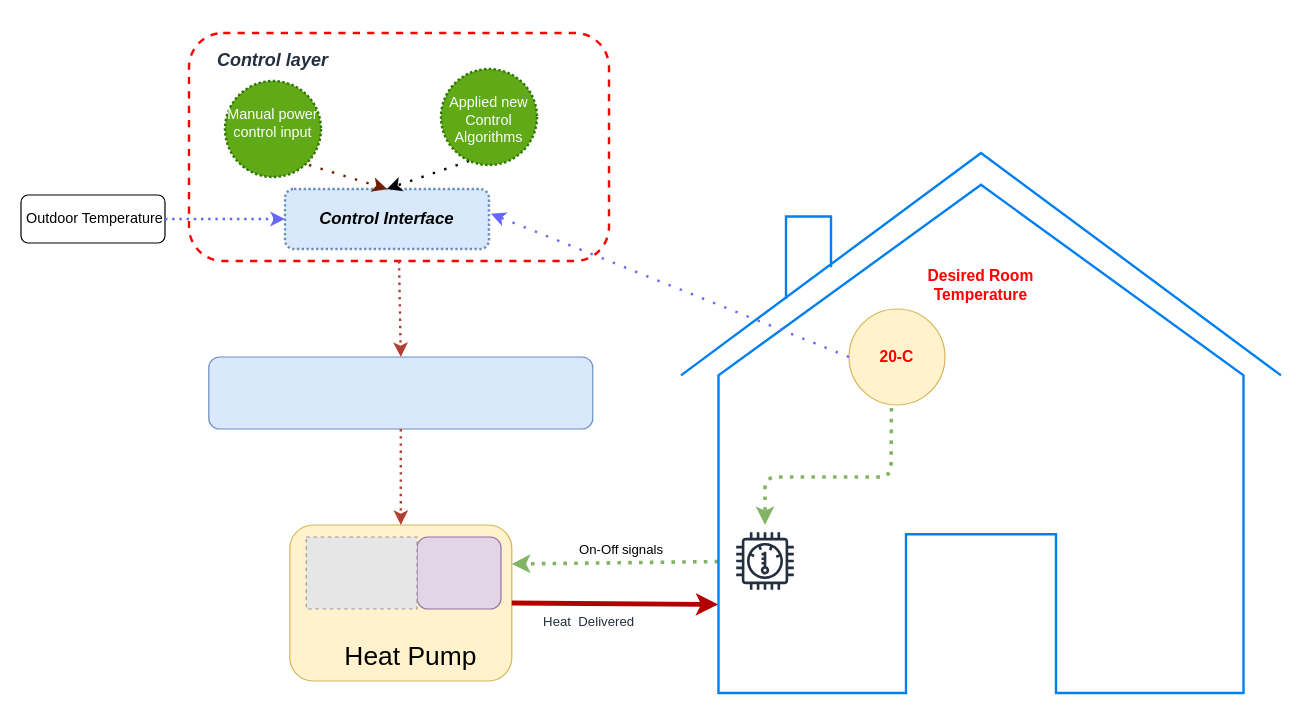
Some shapes in this 1303 by 715 pixel diagram are drawn without their labels. Grey dashed boxes stand in for pictures. Here are the shapes that lost their labels. From the top down, the box of each, then its label:
(208, 356, 593, 429): New / Calculated Temperature
(416, 536, 501, 609): HP Controller
(728, 524, 801, 597): Thermostat
